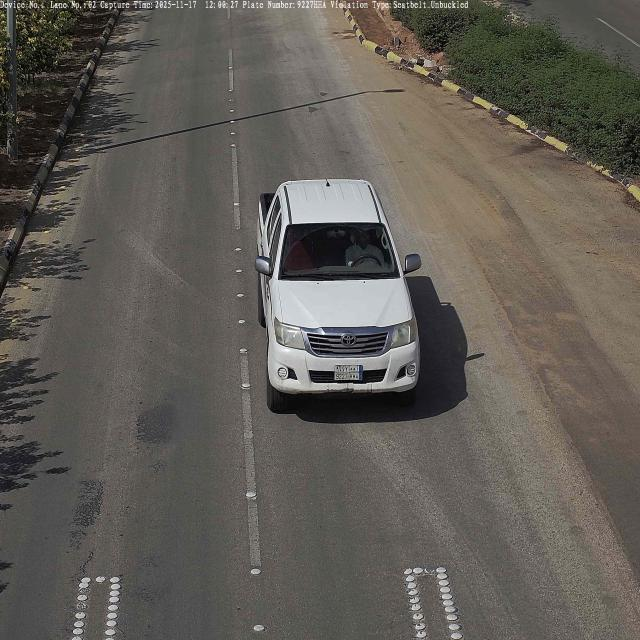person_without_seatbelt: (346, 228, 384, 270)
